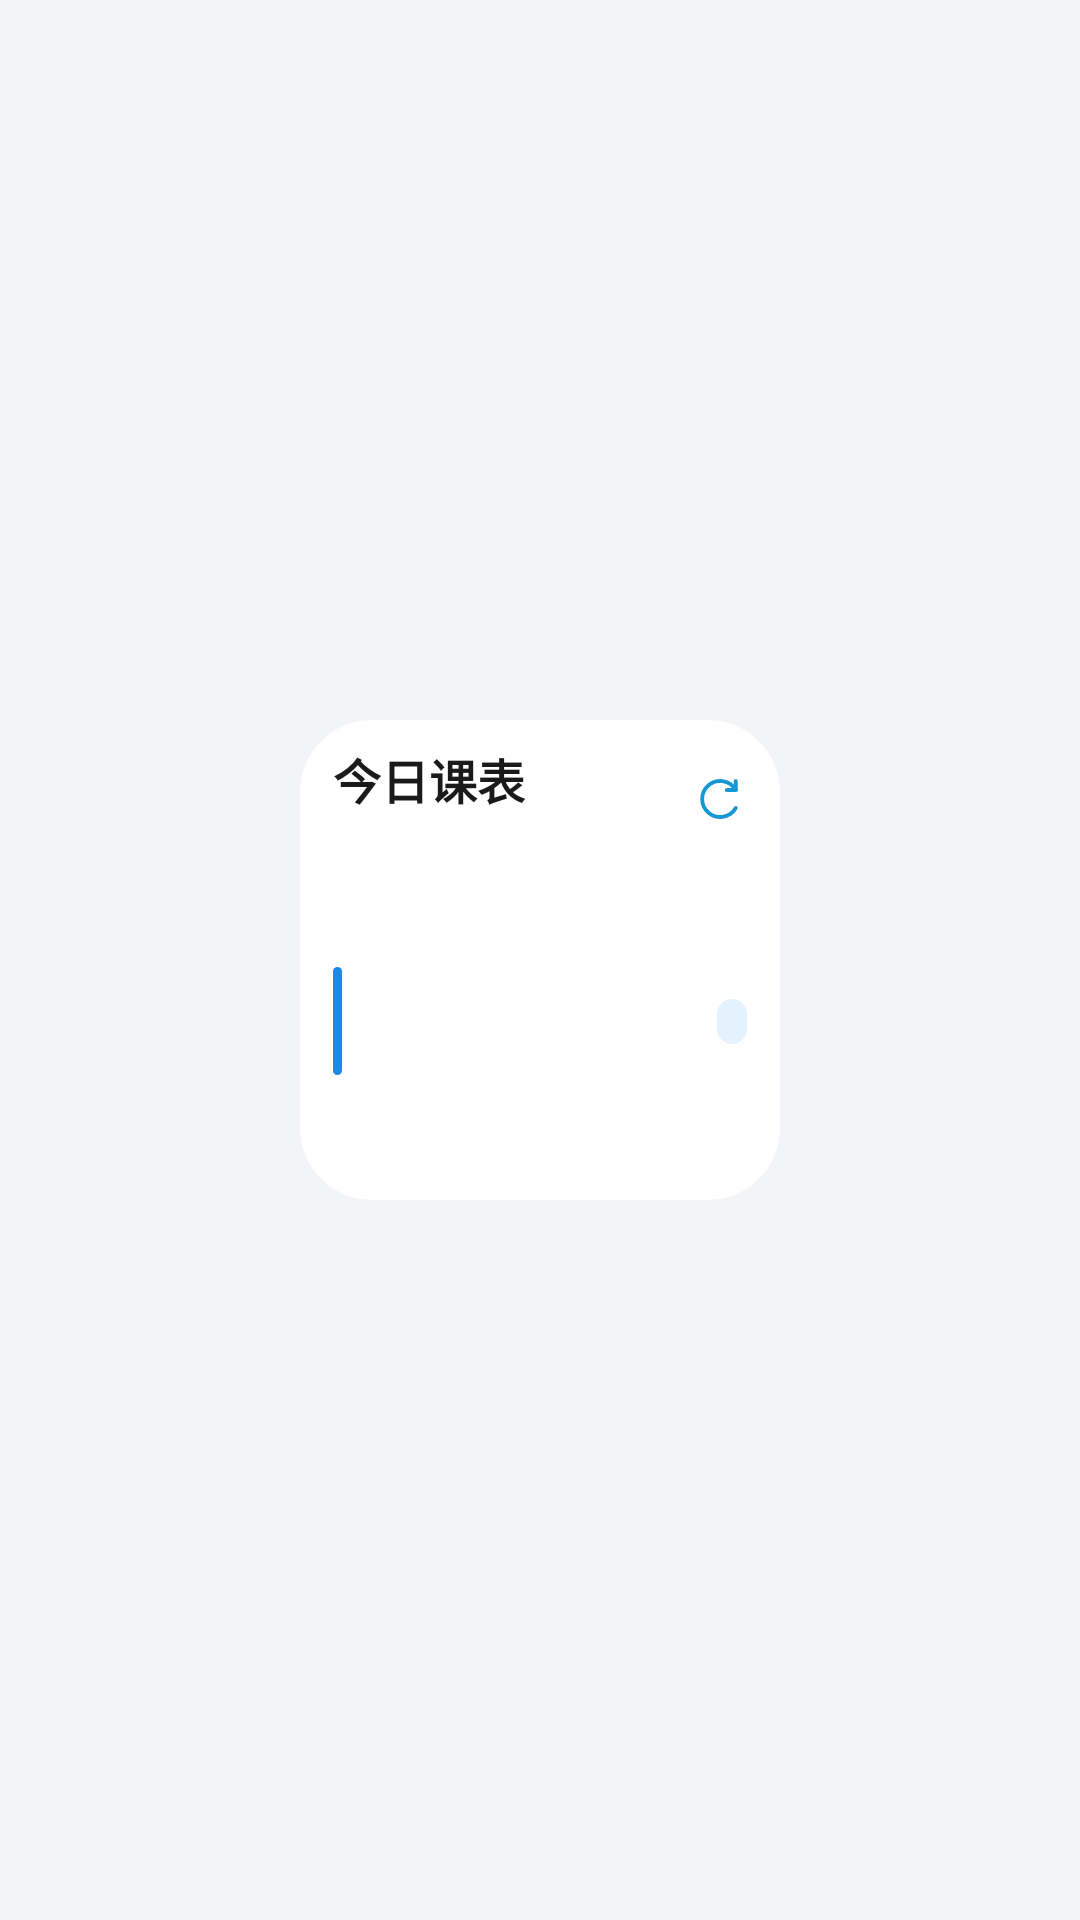

Named icons in this screenshot (1080px×1920px) and their centers, point (x, y):
刷新课表: point (719, 799)
